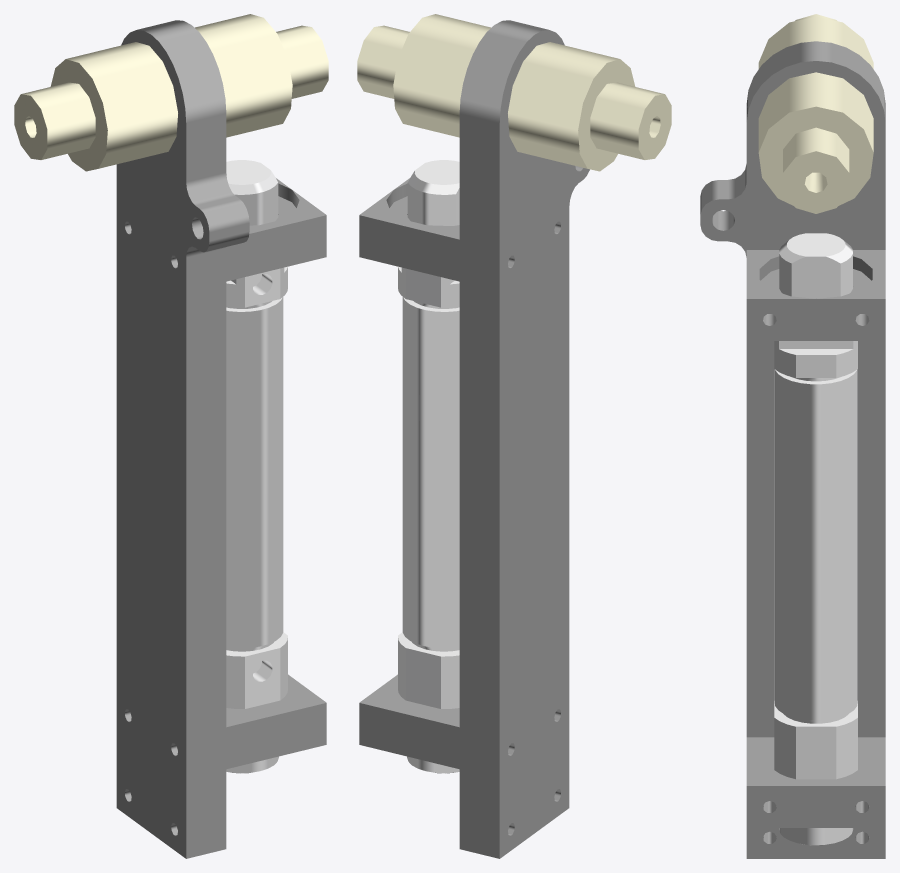
The picture shows the model from 3 angles, left to right: view 1: azimuth 30°, elevation 25°; view 2: azimuth 150°, elevation 25°; view 3: azimuth 270°, elevation 25°; orthographic projection.
Parts seen in each view (by area): view 1: Sólido1_1, Solid1, Sólido1_2, Sólido1, Sólido1_4, Sólido1_3; view 2: Sólido1_1, Solid1, Sólido1_2, Sólido1, Sólido1_4, Sólido1_3; view 3: Sólido1_1, Solid1, Sólido1, Sólido1_4, Sólido1_3, Sólido1_2.
Part boxes in pixels (x1,y1,x2,y2): Sólido1_1: [116, 20, 249, 858]; Solid1: [226, 160, 287, 773]; Sólido1_2: [14, 42, 177, 171]; Sólido1: [195, 14, 328, 137]; Sólido1_4: [226, 674, 326, 769]; Sólido1_3: [226, 178, 326, 281]; Sólido1_1: [459, 20, 589, 858]; Solid1: [398, 160, 459, 773]; Sólido1_2: [508, 42, 671, 171]; Sólido1: [357, 14, 490, 137]; Sólido1_4: [359, 674, 459, 769]; Sólido1_3: [359, 178, 459, 281]; Sólido1_1: [700, 41, 885, 858]; Solid1: [774, 233, 857, 845]; Sólido1: [758, 72, 873, 213]; Sólido1_4: [746, 737, 885, 827]; Sólido1_3: [746, 250, 885, 340]; Sólido1_2: [758, 14, 873, 68].
Size of the model in its own units: 0.07 by 0.04 by 0.19.
